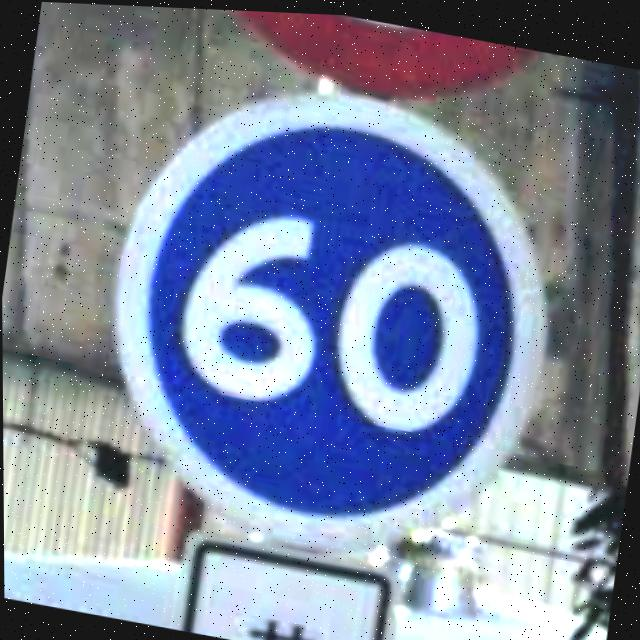min60: (78, 48, 581, 574)
